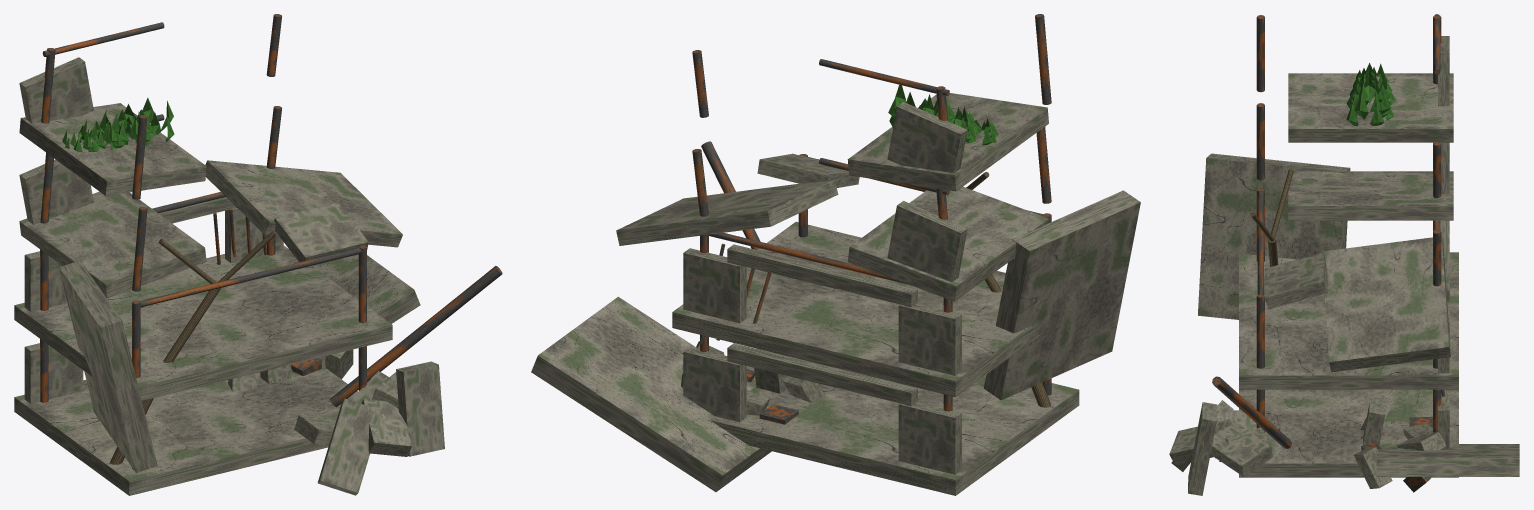
Rendered from ruinedBuilding.glb.
3 views of the same model, side by side, from view 1: azimuth 30°, elevation 25°; view 2: azimuth 150°, elevation 25°; view 3: azimuth 270°, elevation 25° (orthographic). The views are drawn at different scales.
Visible parts, largest first — view 1: b3_prop_ruined_building_0; view 2: b3_prop_ruined_building_0; view 3: b3_prop_ruined_building_0.
Boxes of the visible parts, x1=… form: b3_prop_ruined_building_0: x1=14, y1=14, x2=502, y2=495; b3_prop_ruined_building_0: x1=531, y1=14, x2=1140, y2=495; b3_prop_ruined_building_0: x1=1169, y1=14, x2=1519, y2=495.
Size of the model in its own units: 6.94 by 6.39 by 5.41.
4 materials, 4 textured.
